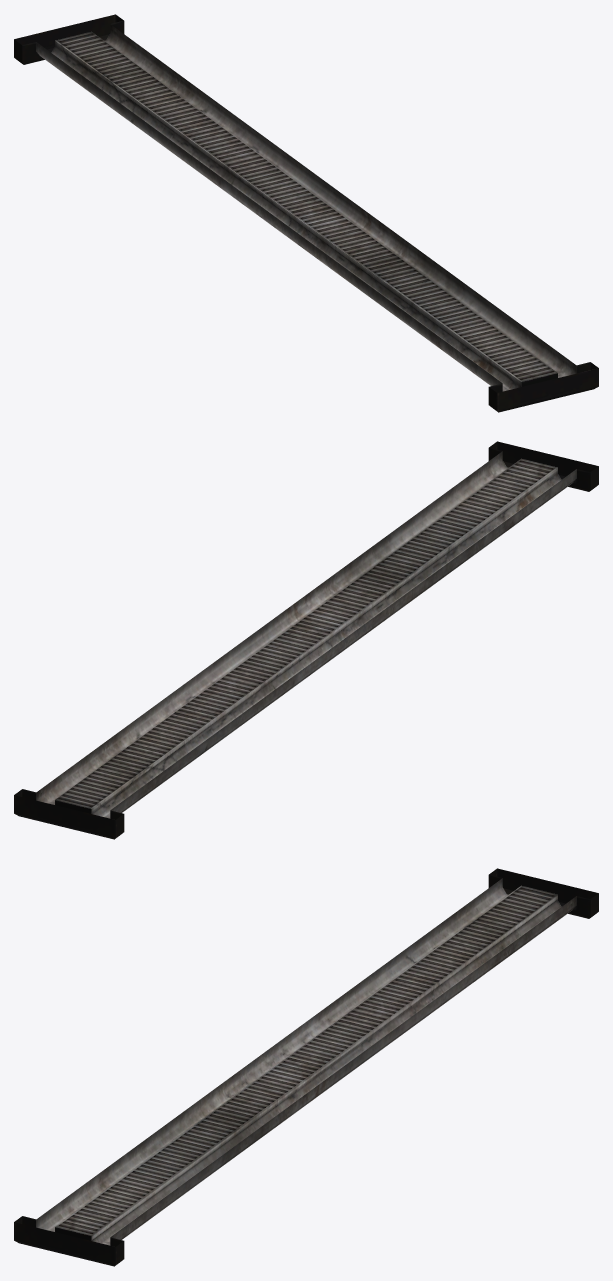
File: chair_scan_rail.dae
The picture shows the model from 3 angles, top to bottom: view 1: azimuth 30°, elevation 25°; view 2: azimuth 150°, elevation 25°; view 3: azimuth 330°, elevation 25°; orthographic projection.
Parts seen in each view (by area): view 1: polySurface296; view 2: polySurface296; view 3: polySurface296.
Part boxes in pixels (bbox=[...]): polySurface296: bbox=[14, 14, 598, 412]; polySurface296: bbox=[14, 441, 598, 839]; polySurface296: bbox=[14, 868, 598, 1266].
Bounding box in the file's own units: 0.3149 × 0.0642 × 2.59.
